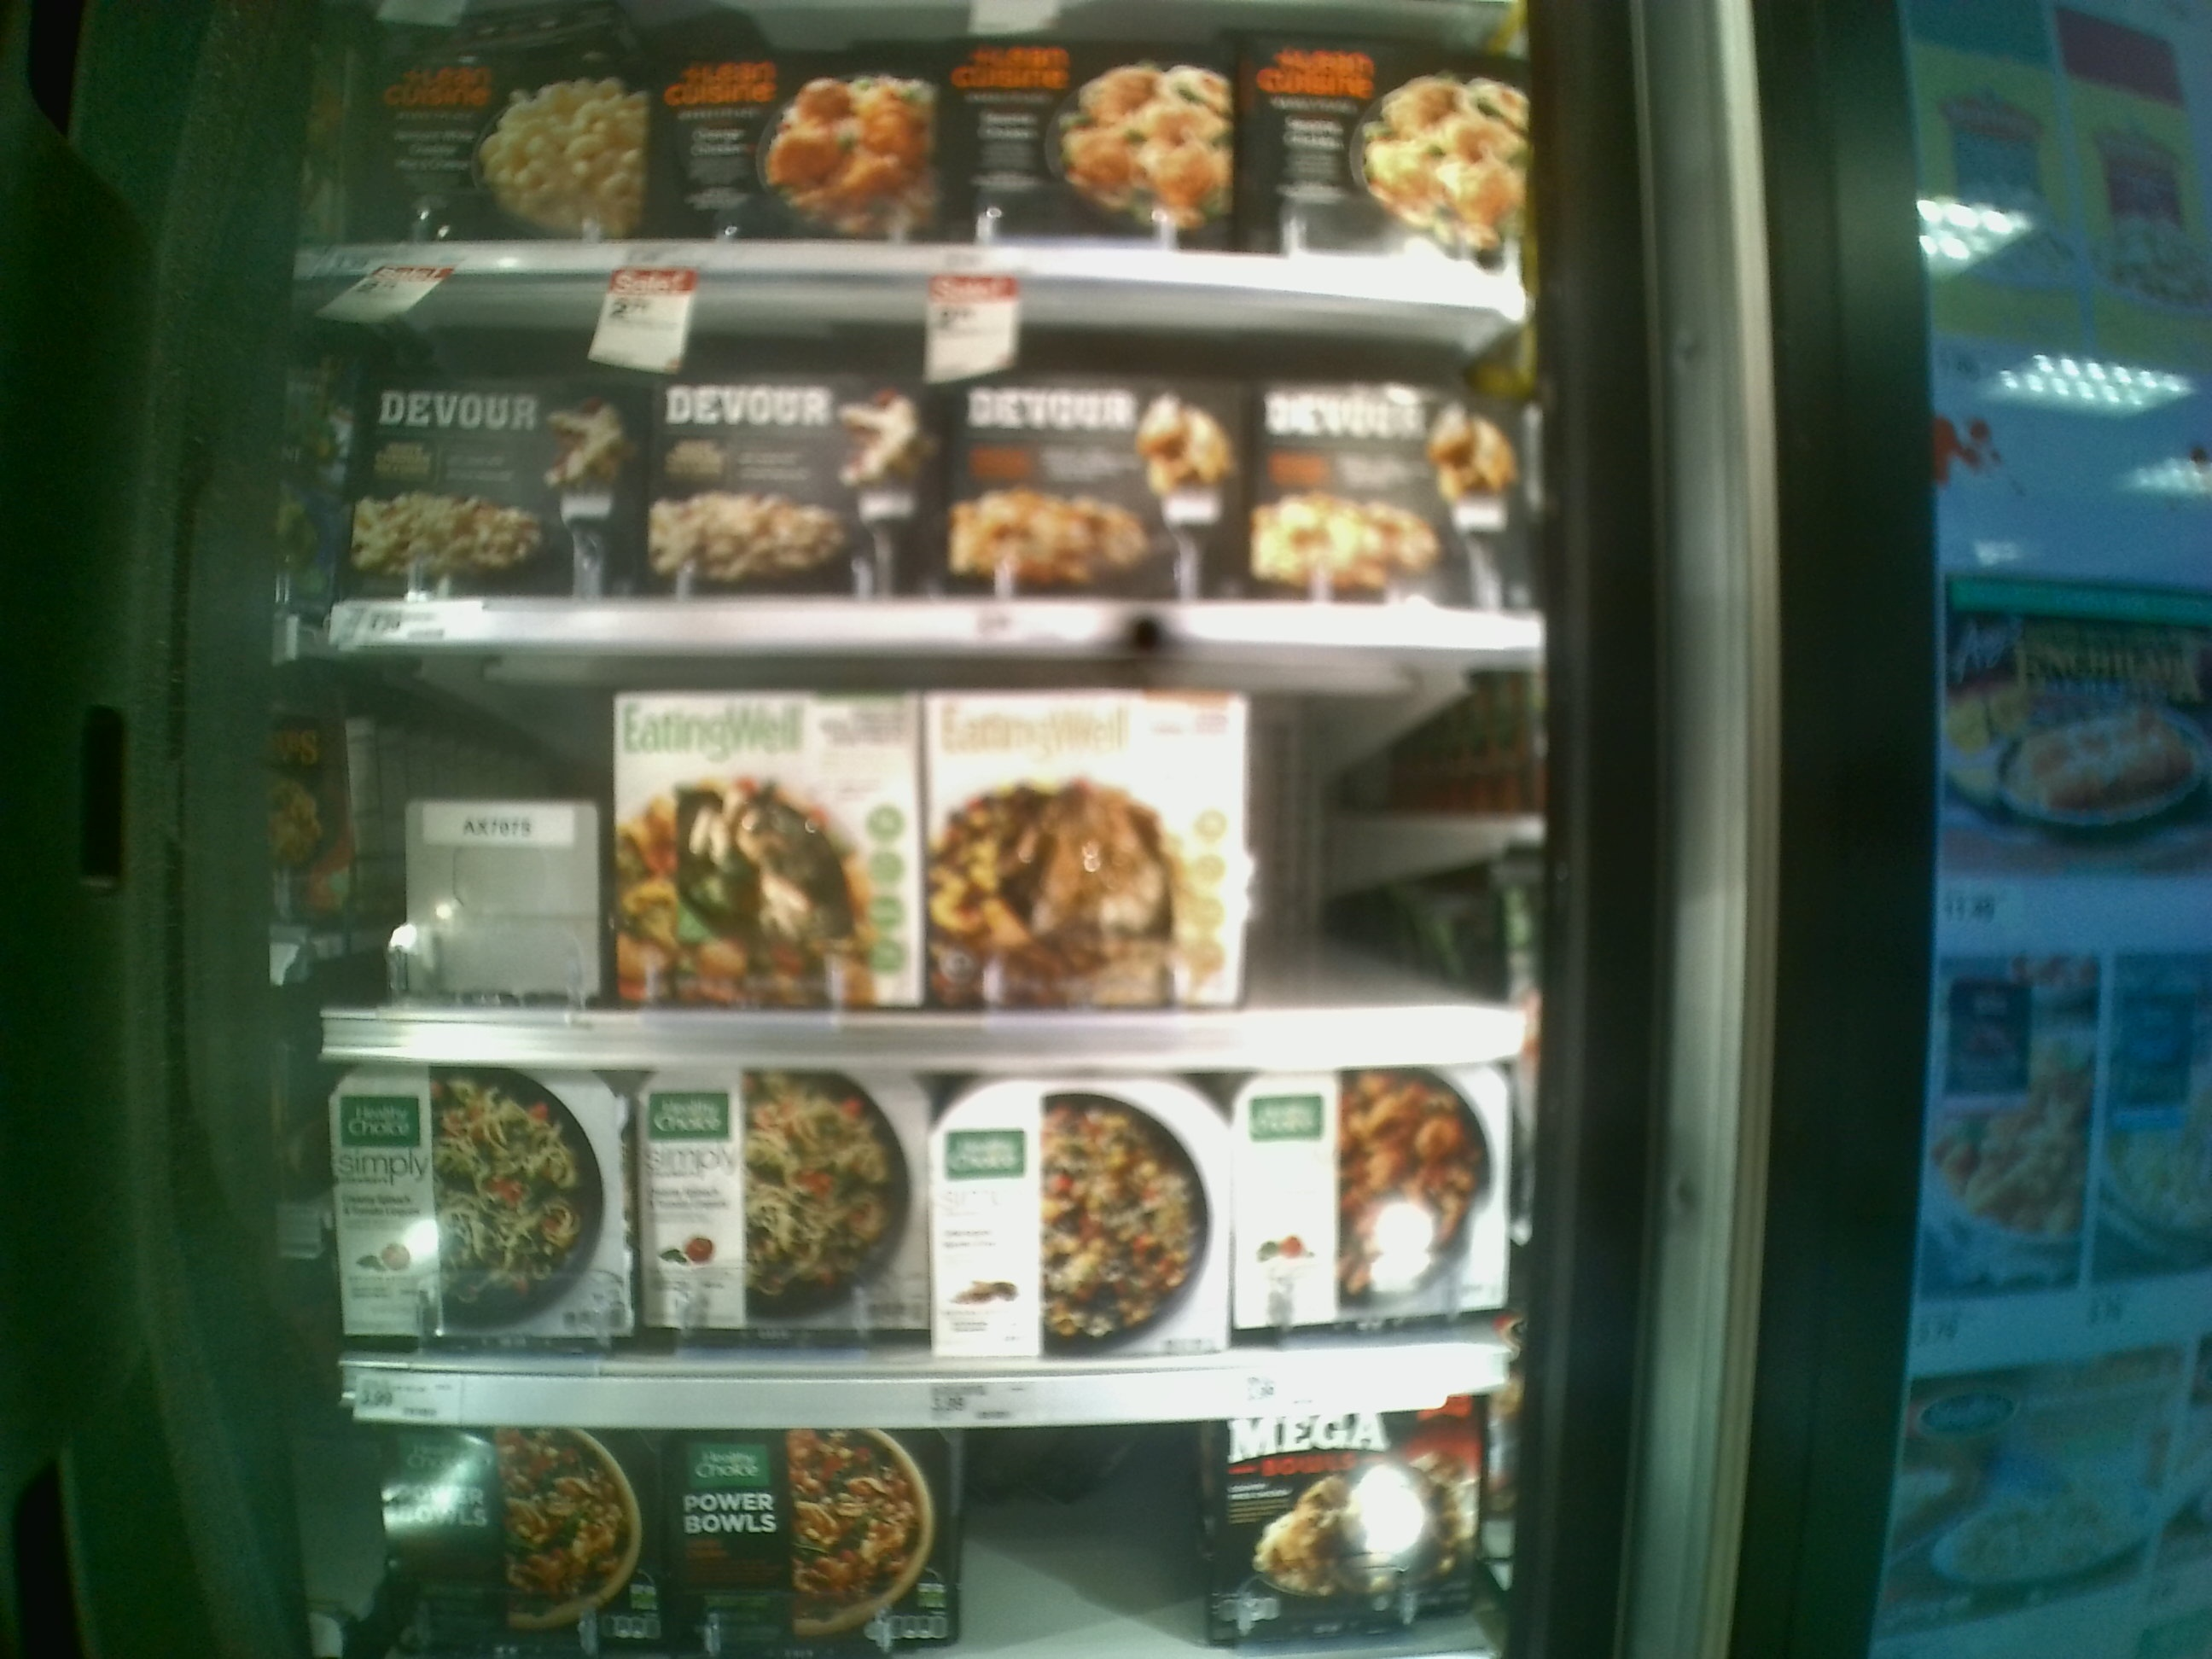shelf: (296, 636, 1543, 1063), (319, 1053, 1543, 1434), (273, 284, 1548, 641)
